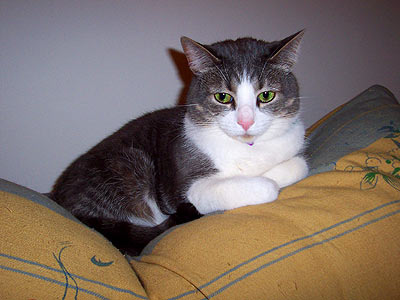cat: (47, 27, 309, 257)
